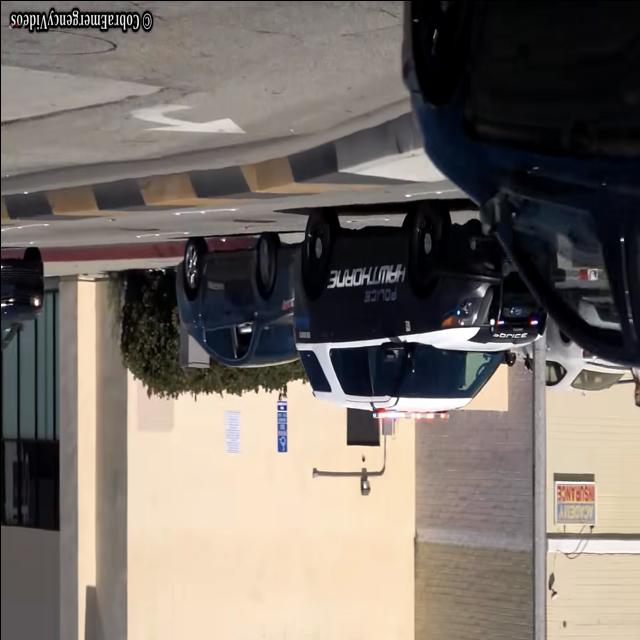emergency-vehicles: (281, 202, 557, 428)
